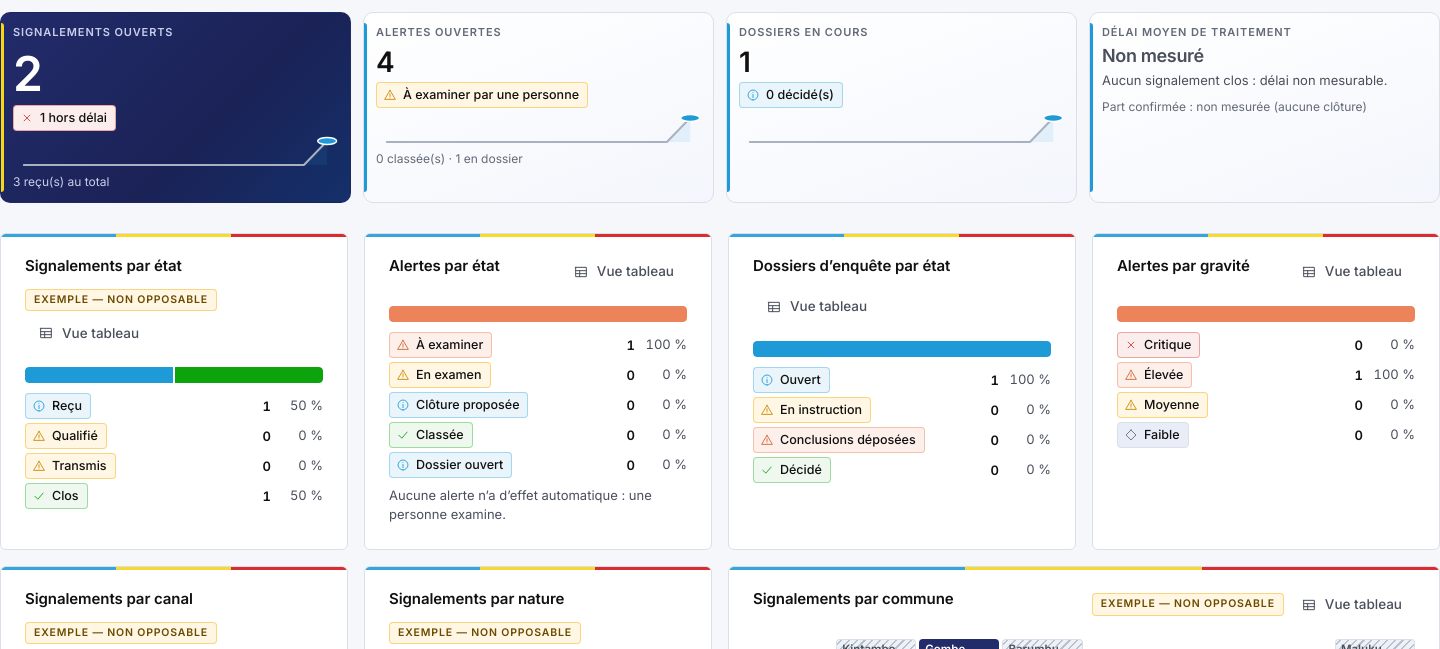
intégrité › console : tuiles, états des files, vue tableau
This screenshot has width=1440, height=649.
expect the element named "Signalements ouverts : 2" is shown: met, box [0,12,351,203]
expect the element named "Délai moyen de traitement : Non mesuré" is shown: met, box [1089,12,1439,203]
Click the button "Vue tableau" next to "Alertes par état" at [623, 272], box [560,254,687,290]
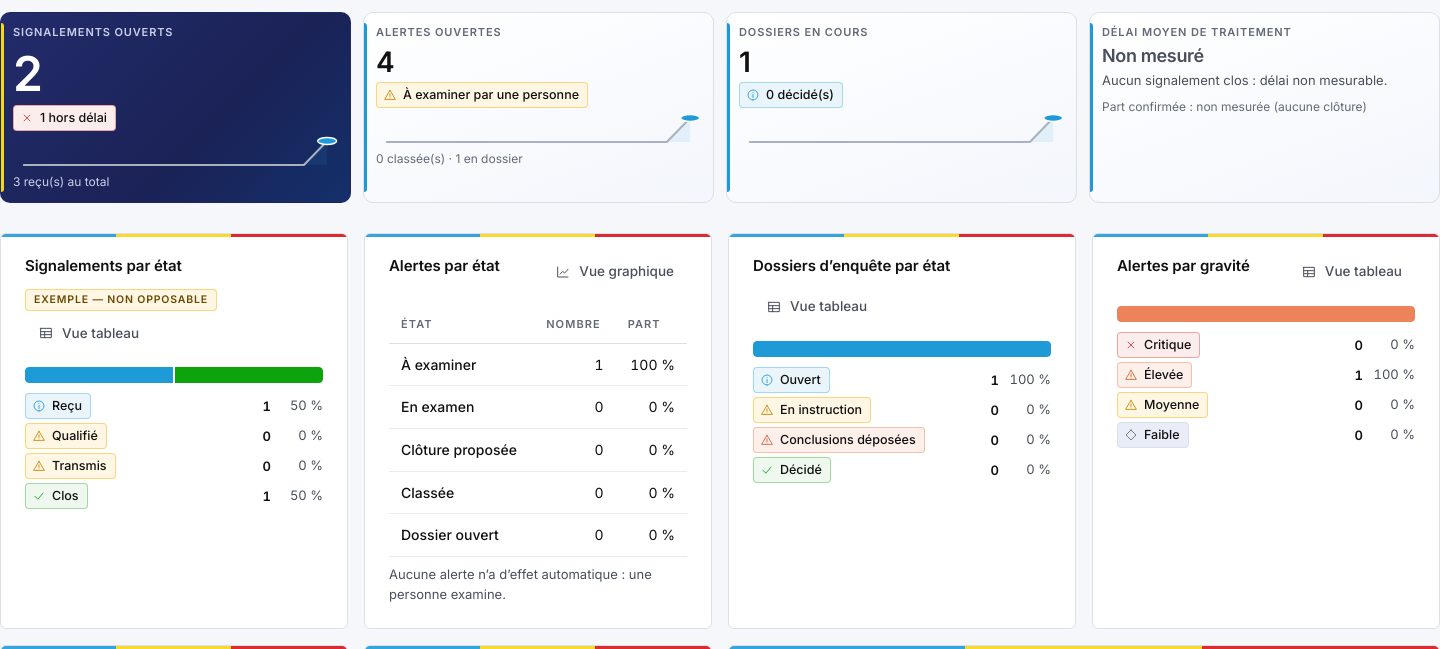
expect the table is shown: met, box [389,306,687,557]
